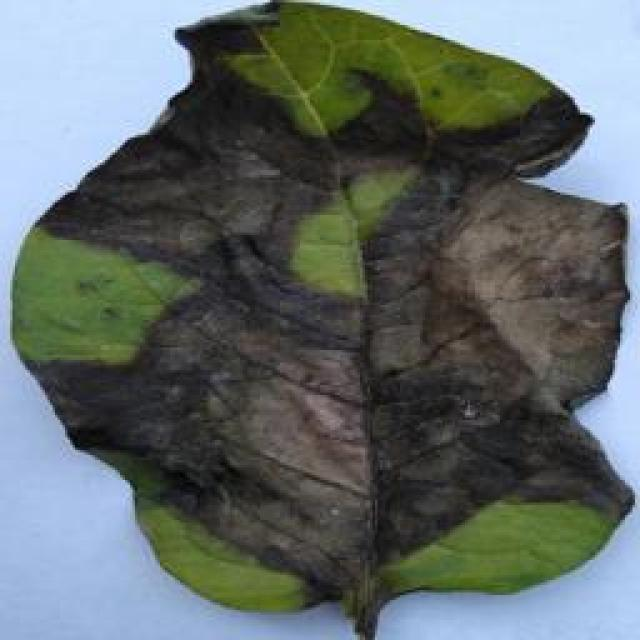Potato_Late_Blight: (5, 7, 636, 635)
